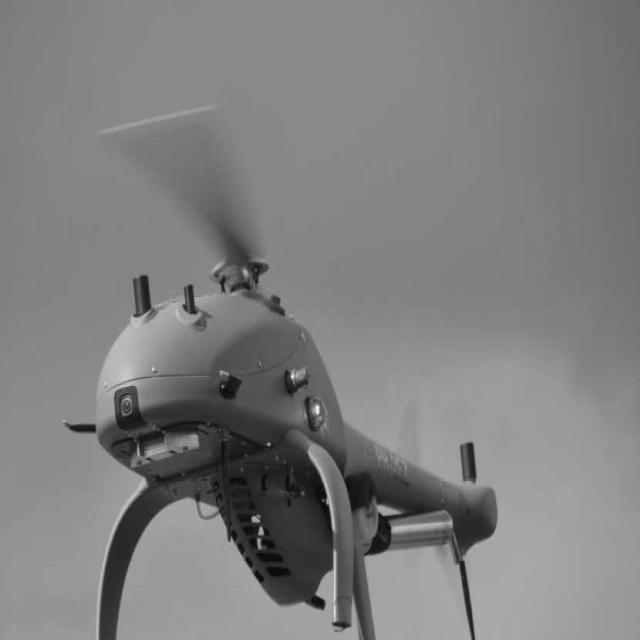helicopter: (63, 111, 494, 640)
